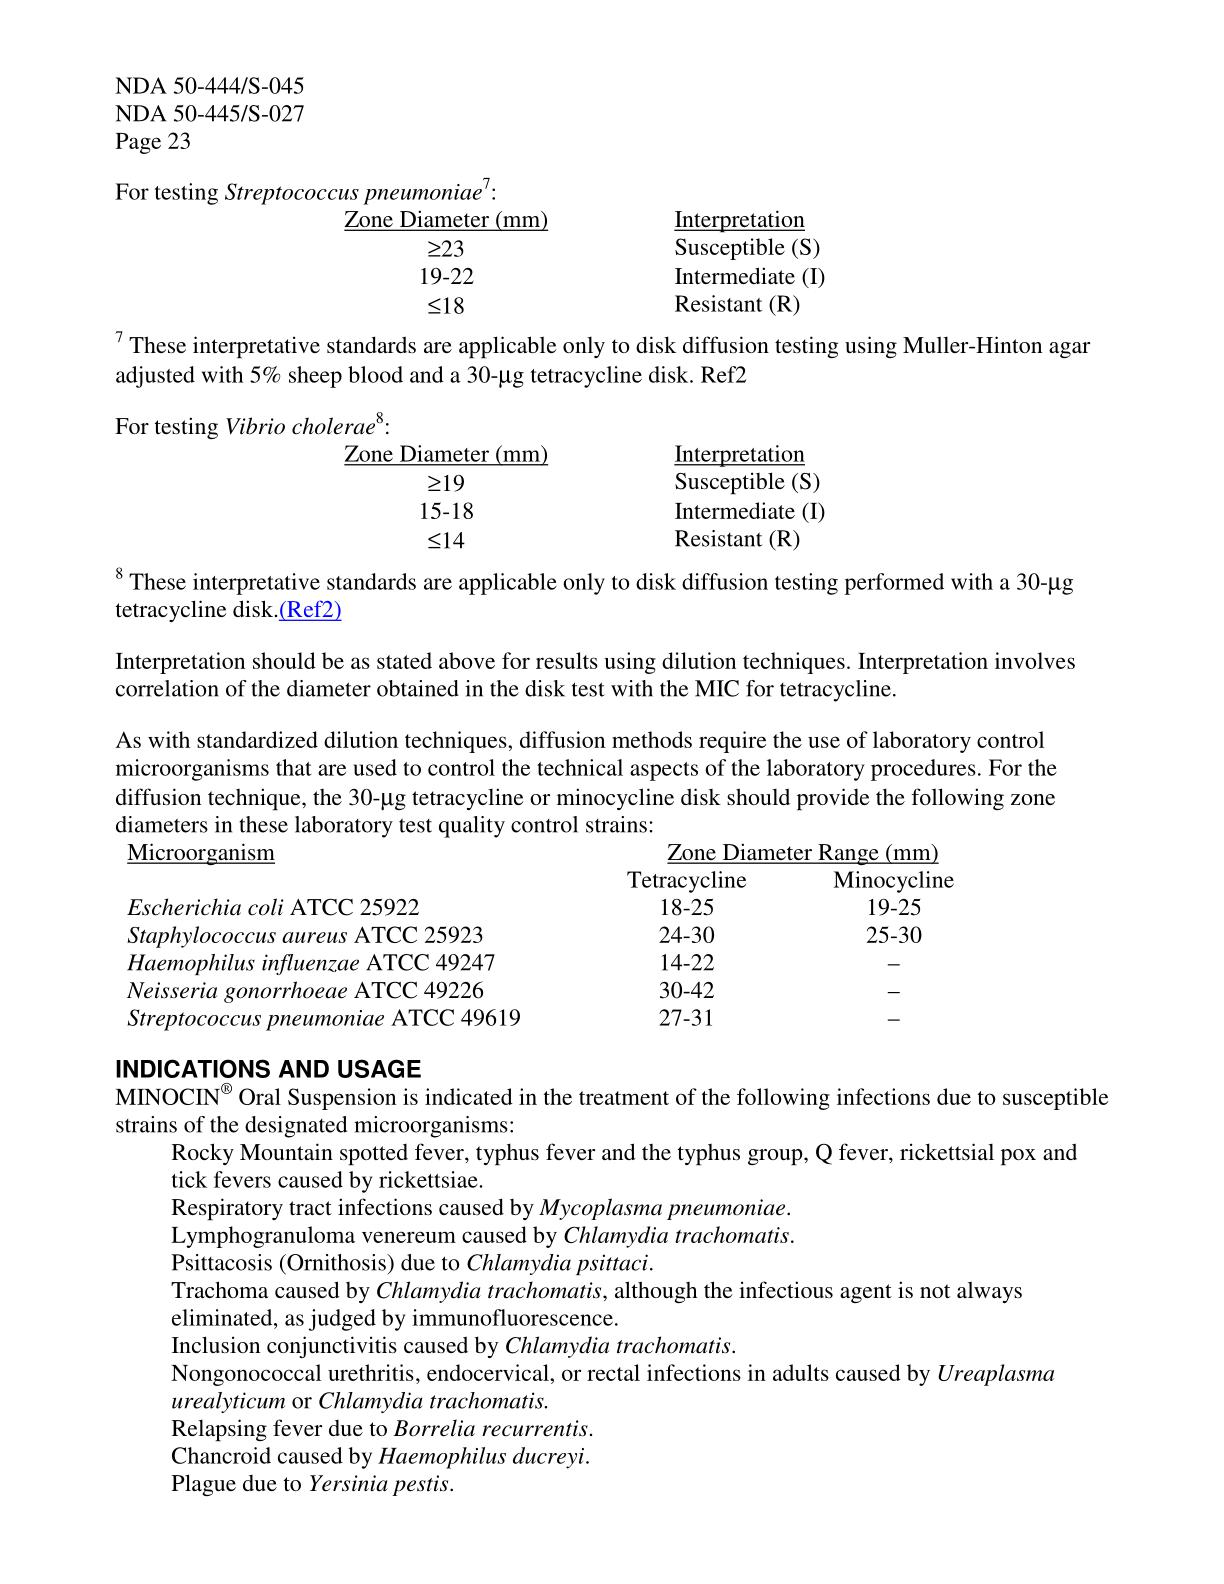nolines: (126, 841, 954, 1031), (342, 208, 825, 316), (342, 442, 825, 549)
